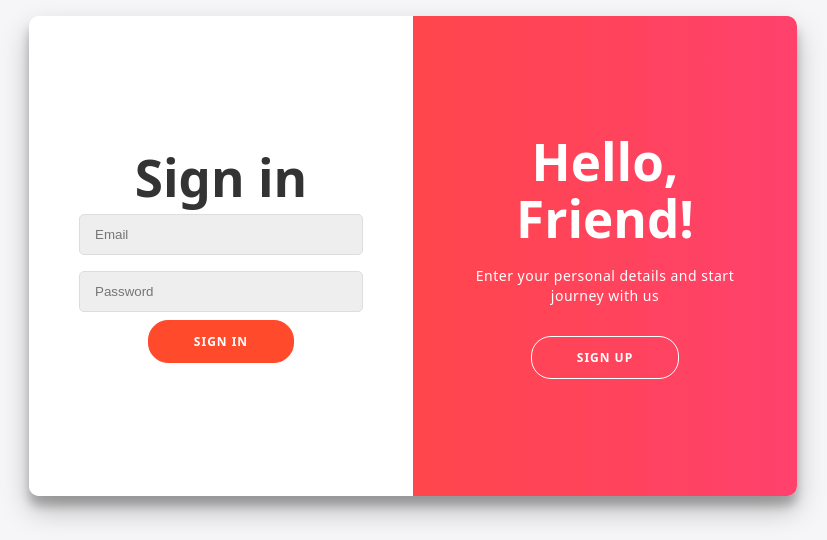
Test: Test error handling và success messages › IT-TC-C1: Shows error when login fields are empty
The width and height of the screenshot is (827, 540).
What coordinates should you click on to do the following:
click the button with test id "login-button"
I would click on:
 (221, 341)
Its box is [148, 320, 294, 363].
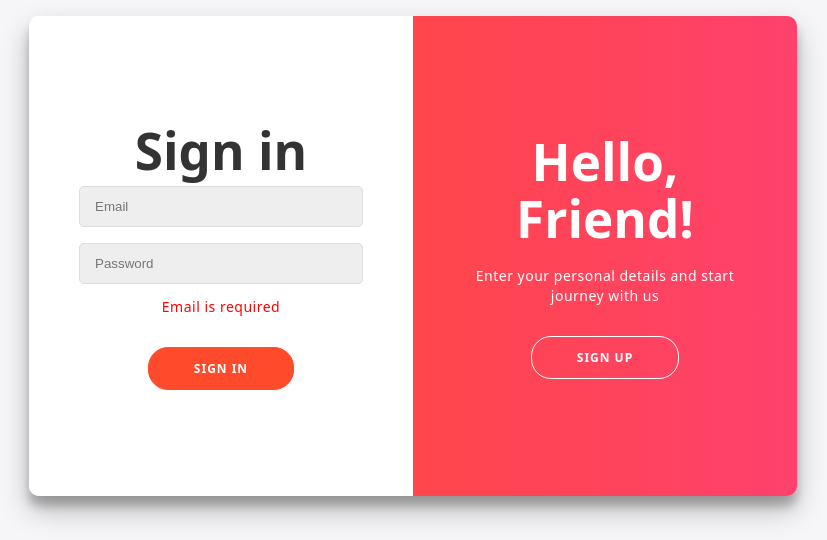
expect the text with test id "login-error" reads "Email is required": met, box [162, 297, 280, 316]
